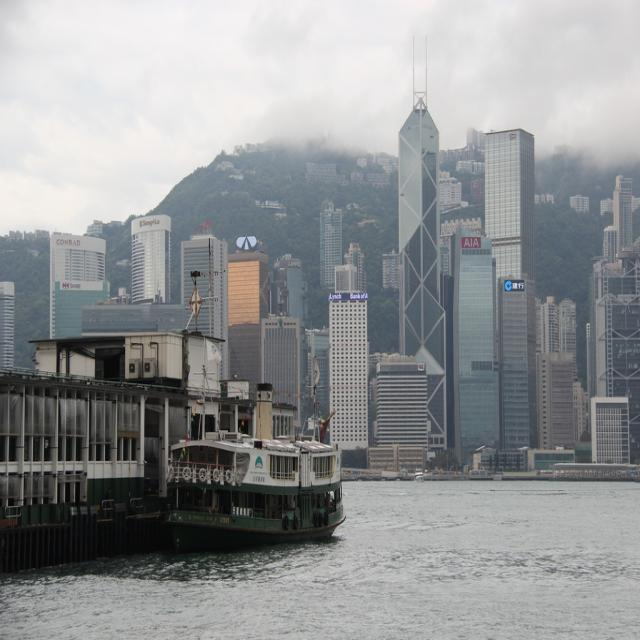Boat: (121, 375, 353, 543)
